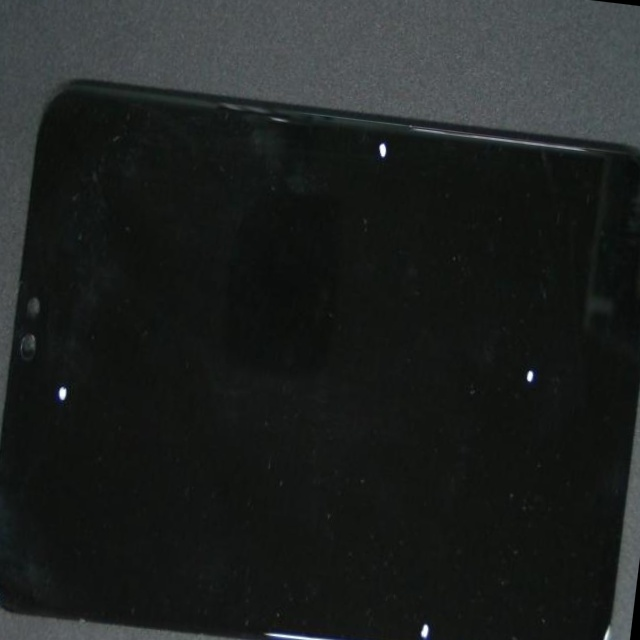stain: (232, 107, 640, 547), (186, 290, 640, 640), (185, 63, 606, 257), (0, 119, 139, 587)
